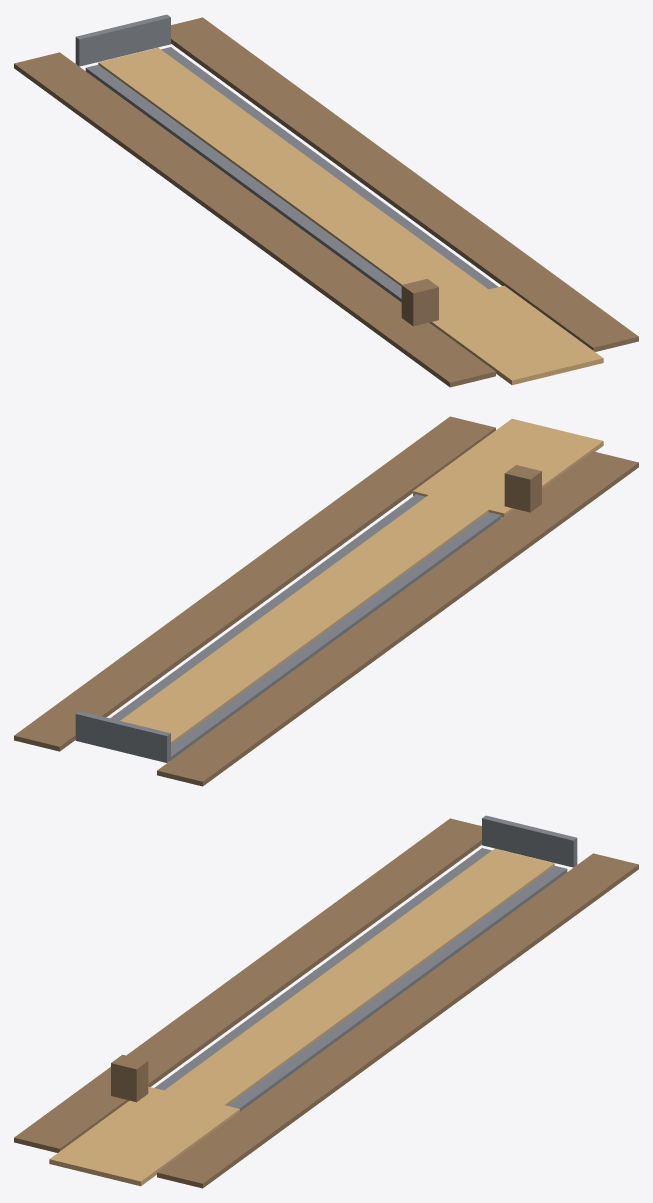
The model's file is Alley.glb.
The picture shows the model from 3 angles, top to bottom: view 1: azimuth 30°, elevation 25°; view 2: azimuth 150°, elevation 25°; view 3: azimuth 330°, elevation 25°; orthographic projection.
Parts seen in each view (by area): view 1: DeckLeft, DeckRight, Lane, Approach, GutterLeft, GutterRight, Backstop, BallStand; view 2: DeckLeft, DeckRight, Lane, Approach, GutterLeft, GutterRight, Backstop, BallStand; view 3: DeckRight, Lane, DeckLeft, Approach, GutterRight, GutterLeft, Backstop, BallStand.
Part boxes in pixels (bbox=[...]): DeckLeft: bbox=[14, 52, 495, 387]; DeckRight: bbox=[171, 17, 638, 351]; Lane: bbox=[98, 47, 488, 301]; Approach: bbox=[429, 285, 603, 385]; GutterLeft: bbox=[85, 65, 401, 302]; GutterRight: bbox=[161, 47, 498, 289]; Backstop: bbox=[75, 14, 170, 66]; BallStand: bbox=[401, 278, 438, 326]; DeckLeft: bbox=[157, 451, 638, 786]; DeckRight: bbox=[14, 416, 495, 751]; Lane: bbox=[120, 495, 488, 744]; Approach: bbox=[413, 418, 603, 517]; GutterLeft: bbox=[171, 512, 501, 759]; GutterRight: bbox=[110, 494, 425, 720]; Backstop: bbox=[75, 711, 170, 762]; BallStand: bbox=[504, 465, 541, 512]; DeckRight: bbox=[157, 853, 638, 1188]; Lane: bbox=[164, 848, 554, 1105]; DeckLeft: bbox=[14, 818, 481, 1152]; Approach: bbox=[49, 1086, 239, 1186]; GutterRight: bbox=[227, 866, 567, 1111]; GutterLeft: bbox=[154, 848, 491, 1090]; Backstop: bbox=[482, 815, 577, 867]; BallStand: bbox=[111, 1054, 148, 1102].
Size of the model in its own units: 3.3 by 0.65 by 13.6.
